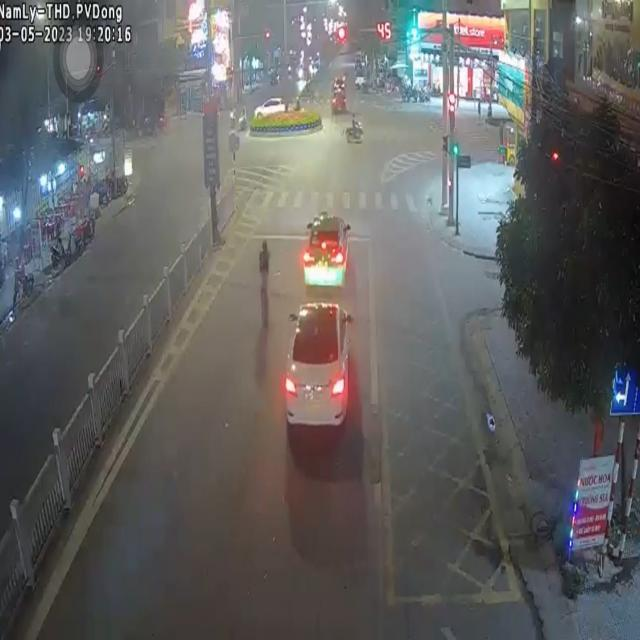Red: (448, 94, 457, 130), (336, 28, 359, 40)
